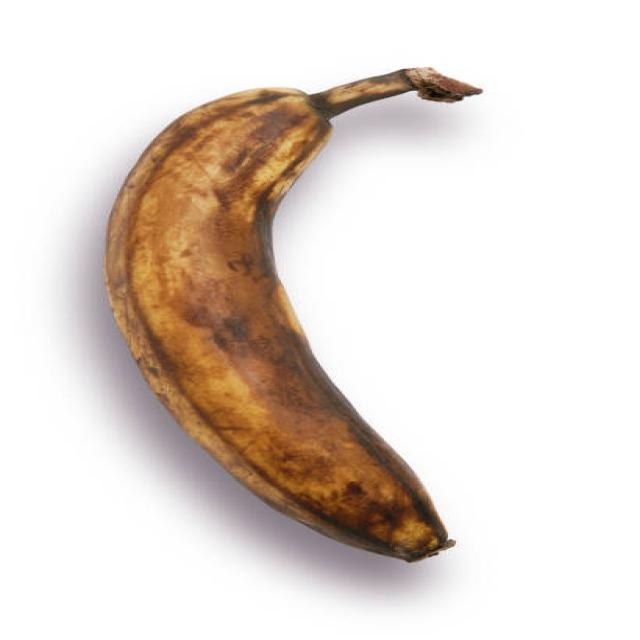overripe: (102, 61, 463, 572)
